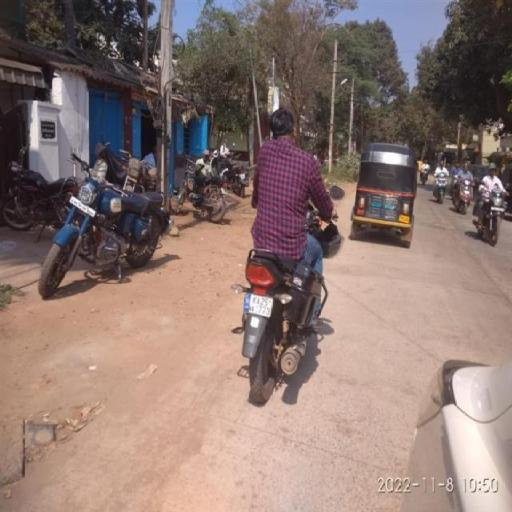numberplate: (241, 291, 275, 318)
using mobile: (268, 132, 280, 142)
